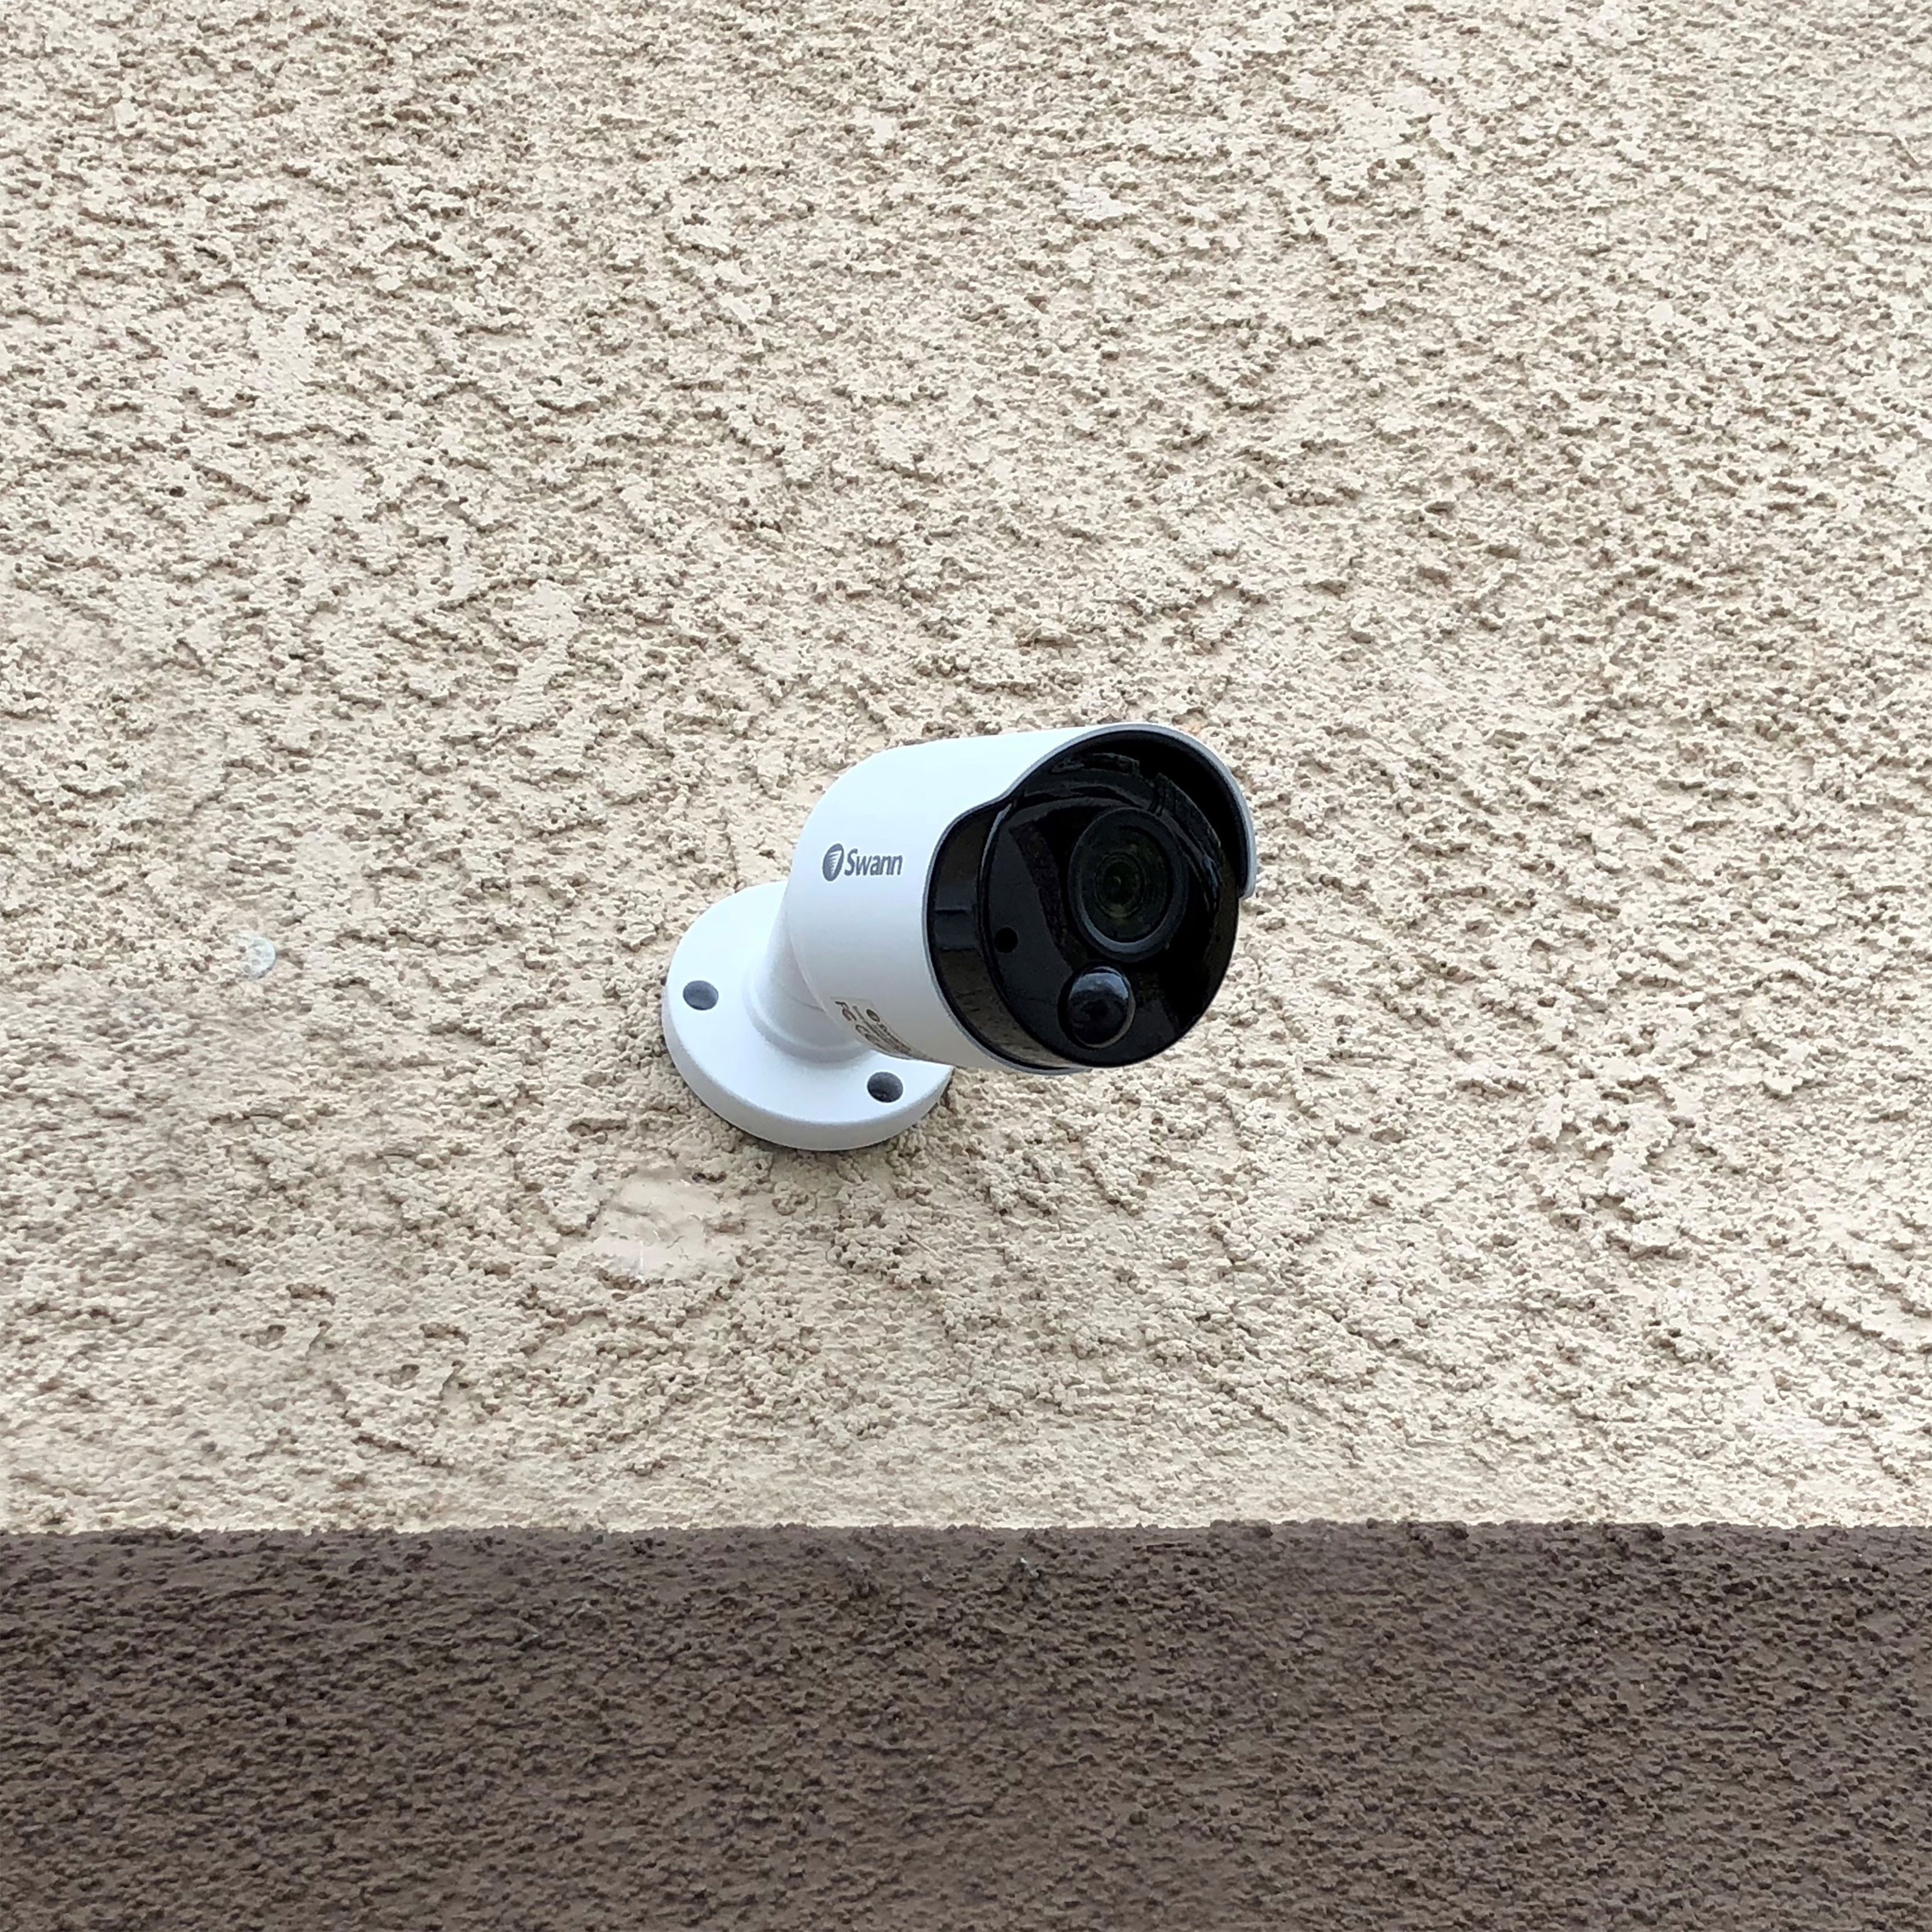Nest Cam: (639, 715, 1293, 1162)
